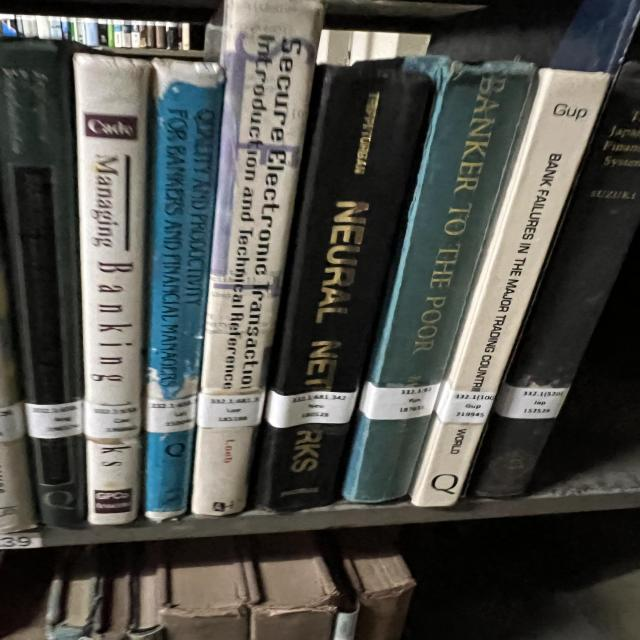Book: (410, 0, 638, 506), (253, 58, 445, 511), (343, 61, 535, 502), (472, 61, 640, 498), (192, 0, 323, 516), (0, 40, 87, 526), (73, 54, 150, 525), (145, 59, 223, 521), (160, 538, 260, 640), (0, 262, 37, 534), (250, 532, 340, 640), (340, 529, 415, 640), (45, 545, 103, 640), (125, 541, 168, 640), (93, 544, 137, 640)
Label: (265, 390, 357, 428), (360, 381, 440, 420), (495, 384, 568, 419), (197, 392, 265, 428), (437, 382, 495, 424), (25, 400, 83, 439), (83, 401, 142, 439), (147, 395, 197, 432)
